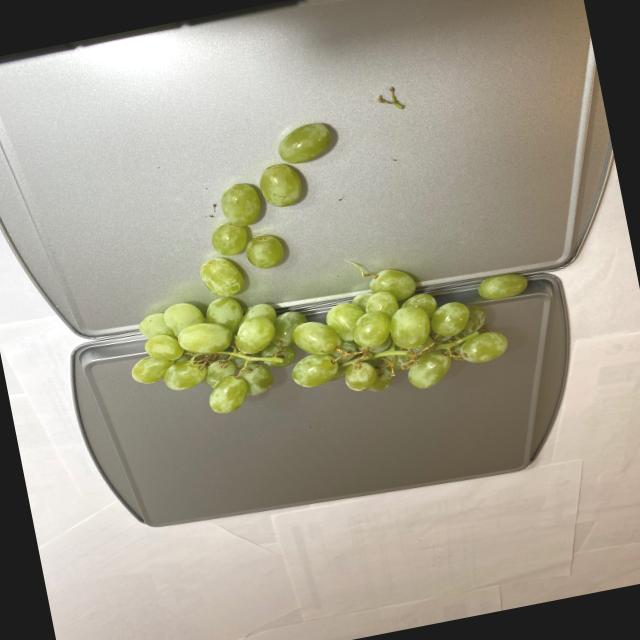grapes: (90, 89, 548, 446)
